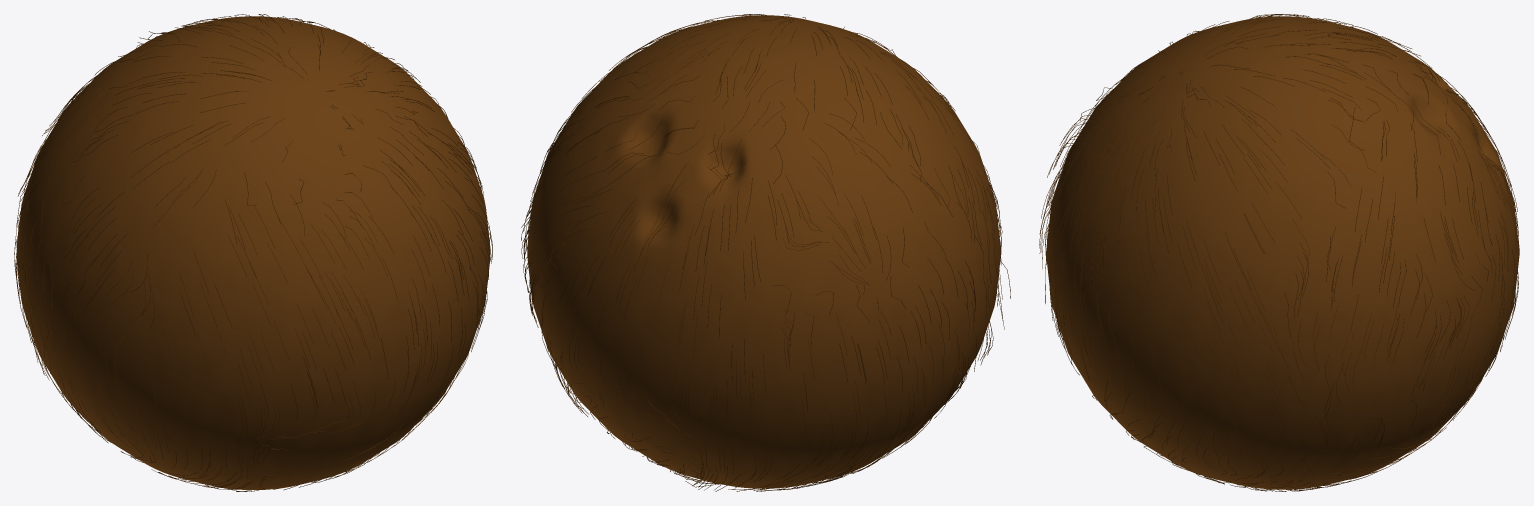
The model's file is Hairy Coconut.fbx.
3 renders of one model, left to right at view 1: azimuth 30°, elevation 25°; view 2: azimuth 150°, elevation 25°; view 3: azimuth 270°, elevation 25°, orthographic.
Visible parts, largest first — view 1: Sphere; view 2: Sphere; view 3: Sphere.
Part boxes in pixels (box(x1,y1,x2,y2)): Sphere: box(14, 14, 492, 491); Sphere: box(521, 14, 1010, 491); Sphere: box(1039, 14, 1519, 491).
Size of the model in its own units: 204 by 202 by 203.
